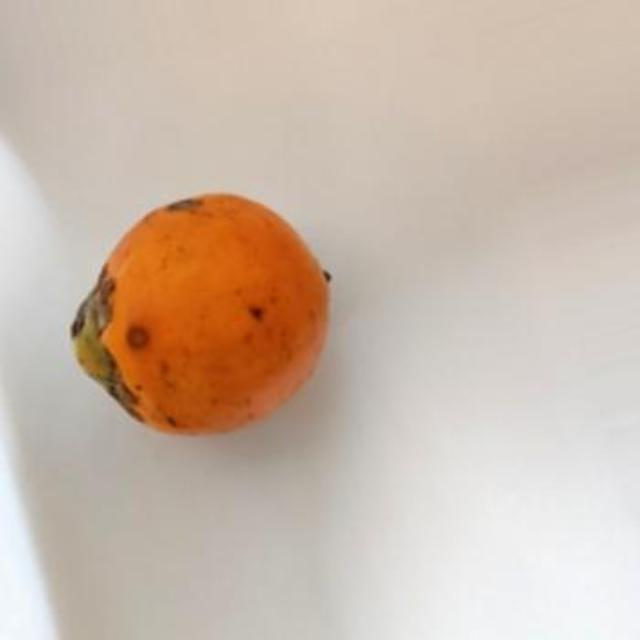good: (69, 194, 331, 439)
